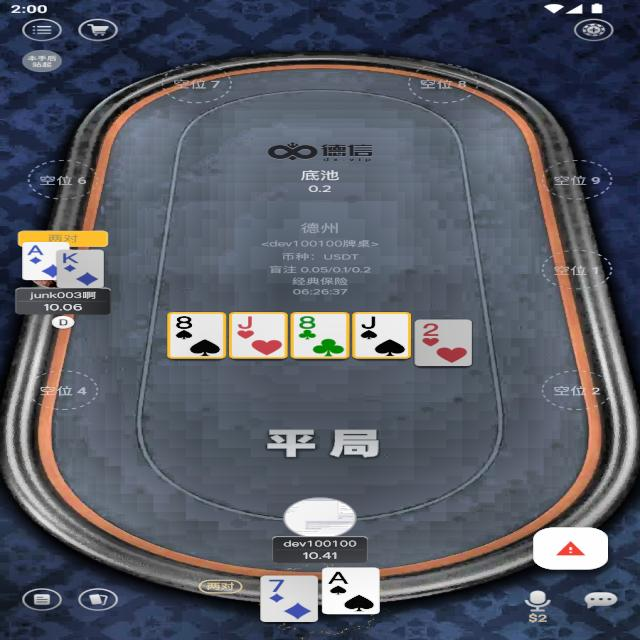2h: (419, 322, 445, 338)
7f: (264, 578, 290, 594)
8m: (295, 314, 321, 330)
8s: (172, 315, 197, 331)
Af: (27, 244, 46, 256)
As: (324, 570, 358, 586)
Jh: (232, 314, 265, 330)
Js: (359, 314, 380, 329)
Kf: (60, 251, 81, 265)
